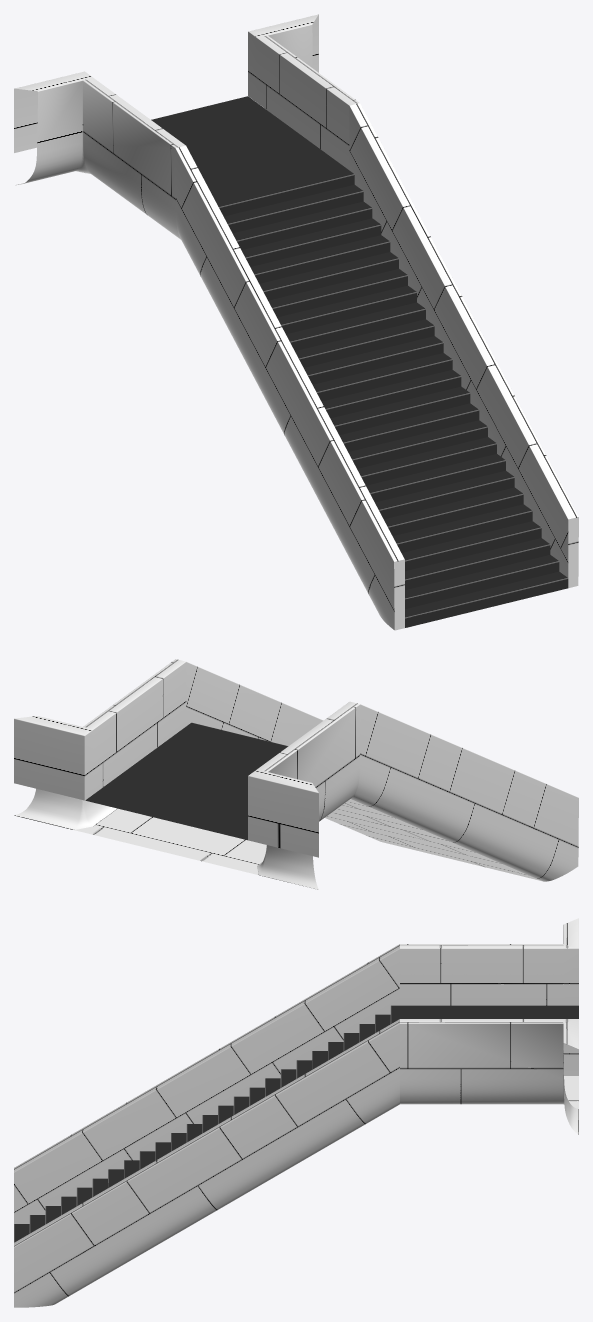
Rendered from Stairs03_45Deg265x900cm.FBX.
3 renders of one model, top to bottom at view 1: azimuth 30°, elevation 25°; view 2: azimuth 150°, elevation 25°; view 3: azimuth 270°, elevation 25°, orthographic. The views are drawn at different scales.
Parts seen in each view (by area): view 1: Steps, Parapet; view 2: Parapet, Steps; view 3: Parapet, Steps.
Part boxes in pixels (x1,y1,x2,y2): Steps: (151, 96, 568, 627); Parapet: (14, 14, 578, 630); Parapet: (14, 659, 578, 889); Steps: (85, 722, 288, 840); Parapet: (14, 918, 578, 1307); Steps: (14, 1005, 578, 1242).
Bounding box in the file's own units: 495 × 500 × 900.
